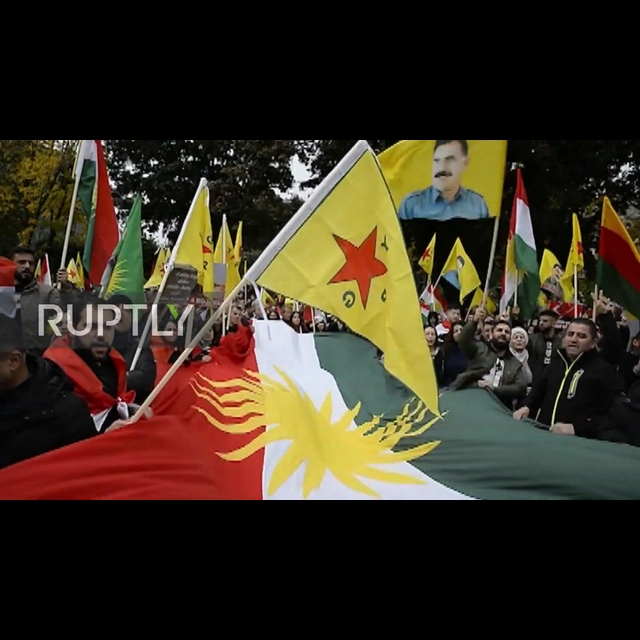APO: (426, 141, 475, 193)
YPG: (319, 218, 398, 316)
